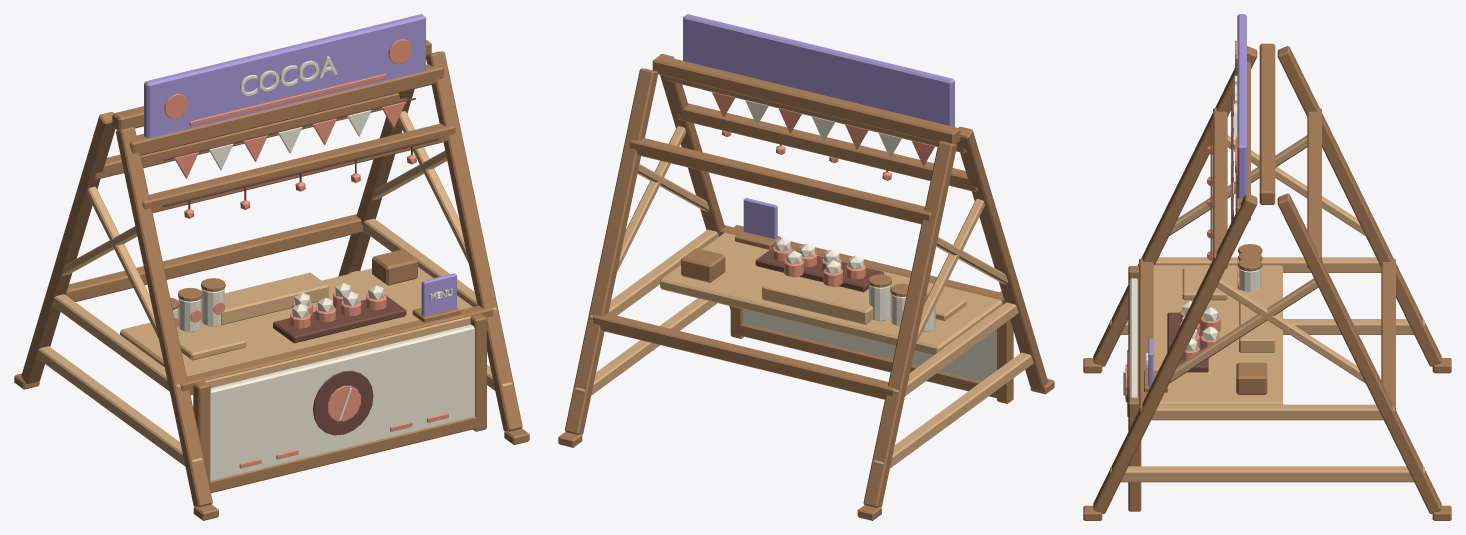
File: food_booth_s1.glb
3 renders of one model, left to right at view 1: azimuth 30°, elevation 25°; view 2: azimuth 150°, elevation 25°; view 3: azimuth 270°, elevation 25°, orthographic. The views are drawn at different scales.
Visible parts, largest first — view 1: Tutorial_CanopyBooth_s1; view 2: Tutorial_CanopyBooth_s1; view 3: Tutorial_CanopyBooth_s1.
Boxes of the visible parts, x1,y1,x2,y2 form: Tutorial_CanopyBooth_s1: (14, 14, 529, 520); Tutorial_CanopyBooth_s1: (558, 14, 1054, 520); Tutorial_CanopyBooth_s1: (1083, 14, 1451, 520).
Bounding box in the file's own units: 4.27 × 4.65 × 4.27.
